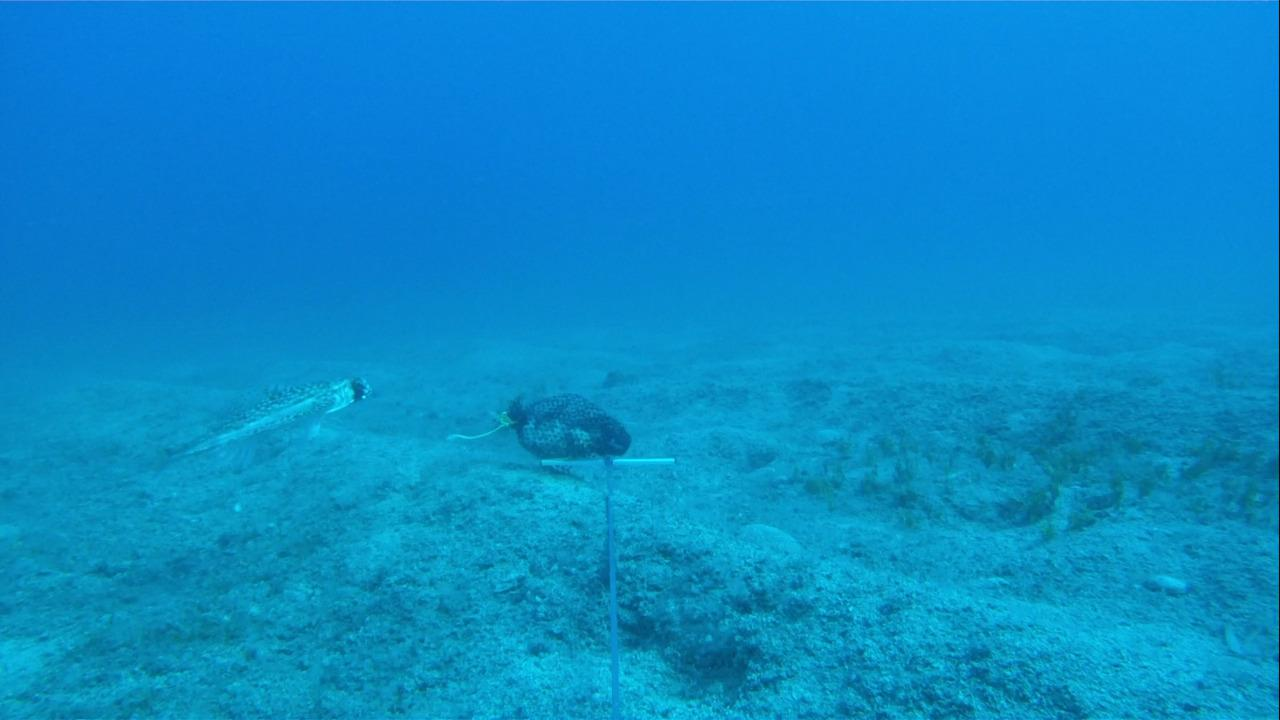dactylopterus: (113, 372, 375, 504)
